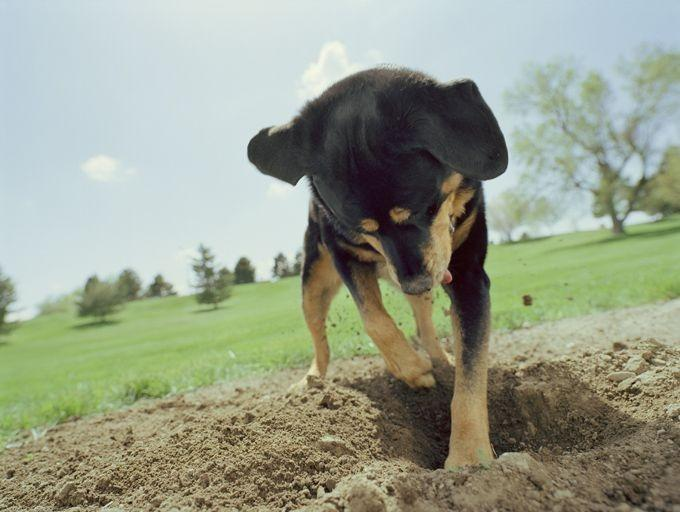adult_dog: (247, 66, 509, 473)
